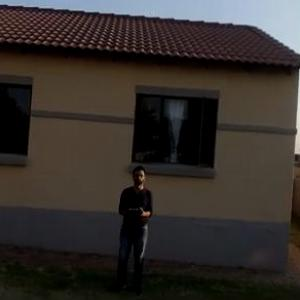follow: (113, 161, 154, 299)
